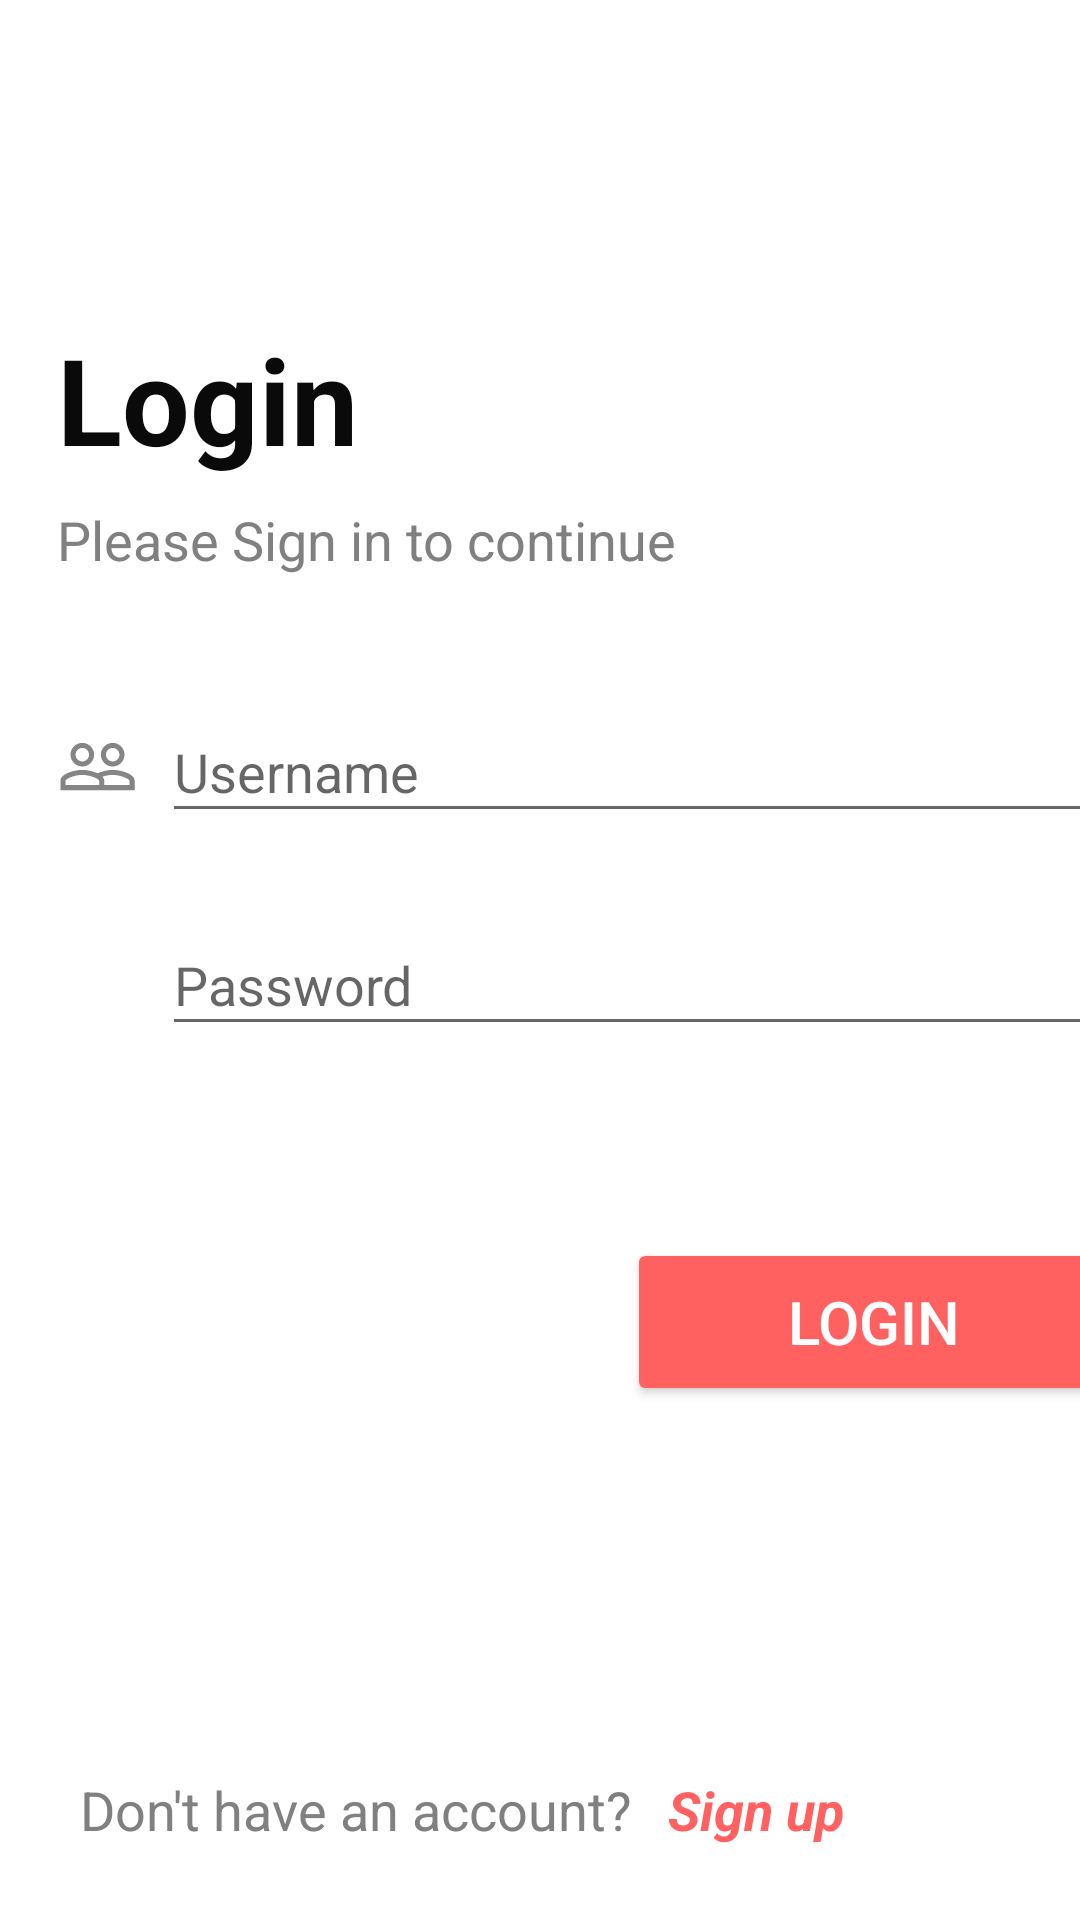

Icon click points for this 1080*1920 phone screenshot, format point (x, y):
login user: point (97, 767)
